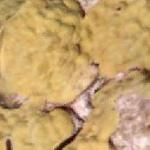alive: (7, 4, 146, 147)
